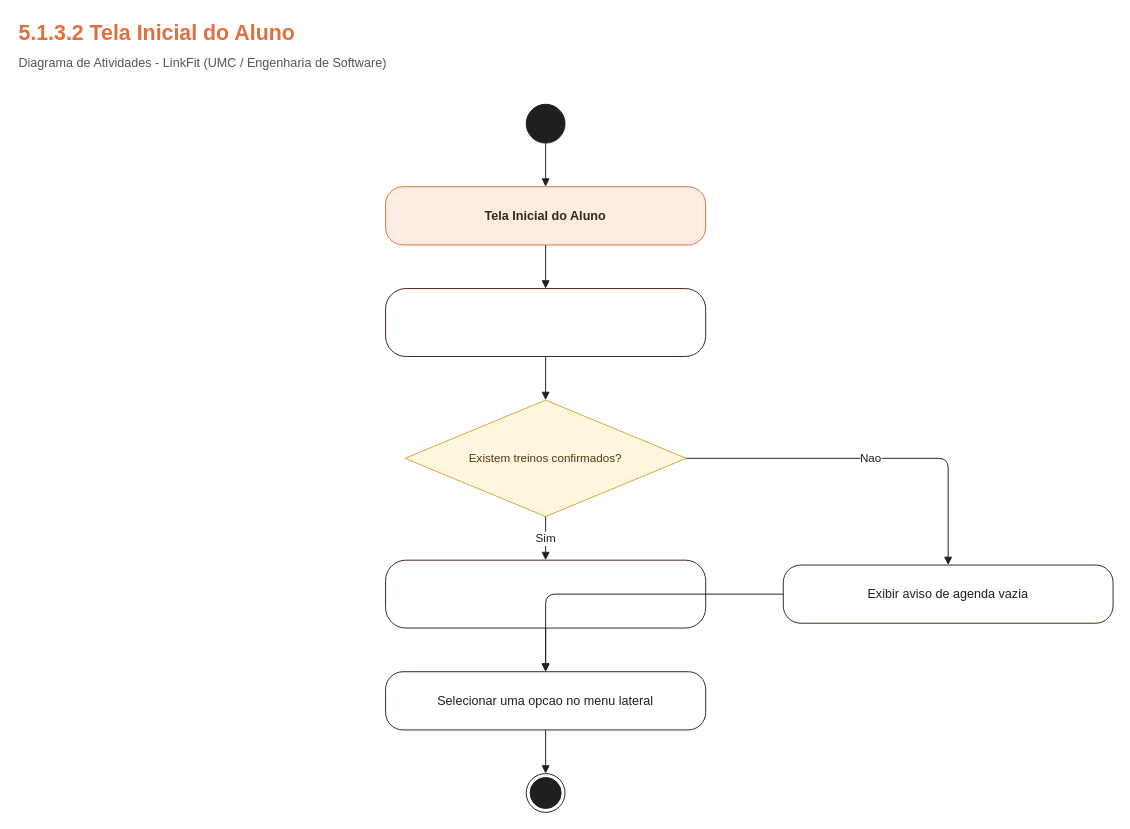
Some shapes in this 1130 by 829 pixel diagram are drawn without their labels. The shapes that lost their labels are listed below. From the top down, each one's box as (x1, y1, x2, y2) in pixels, then its label:
(385, 288, 706, 356): Carregar treinos da semana, sessoes e progresso da meta
(385, 559, 706, 628): Exibir os proximos treinos e o resumo da evolucao
